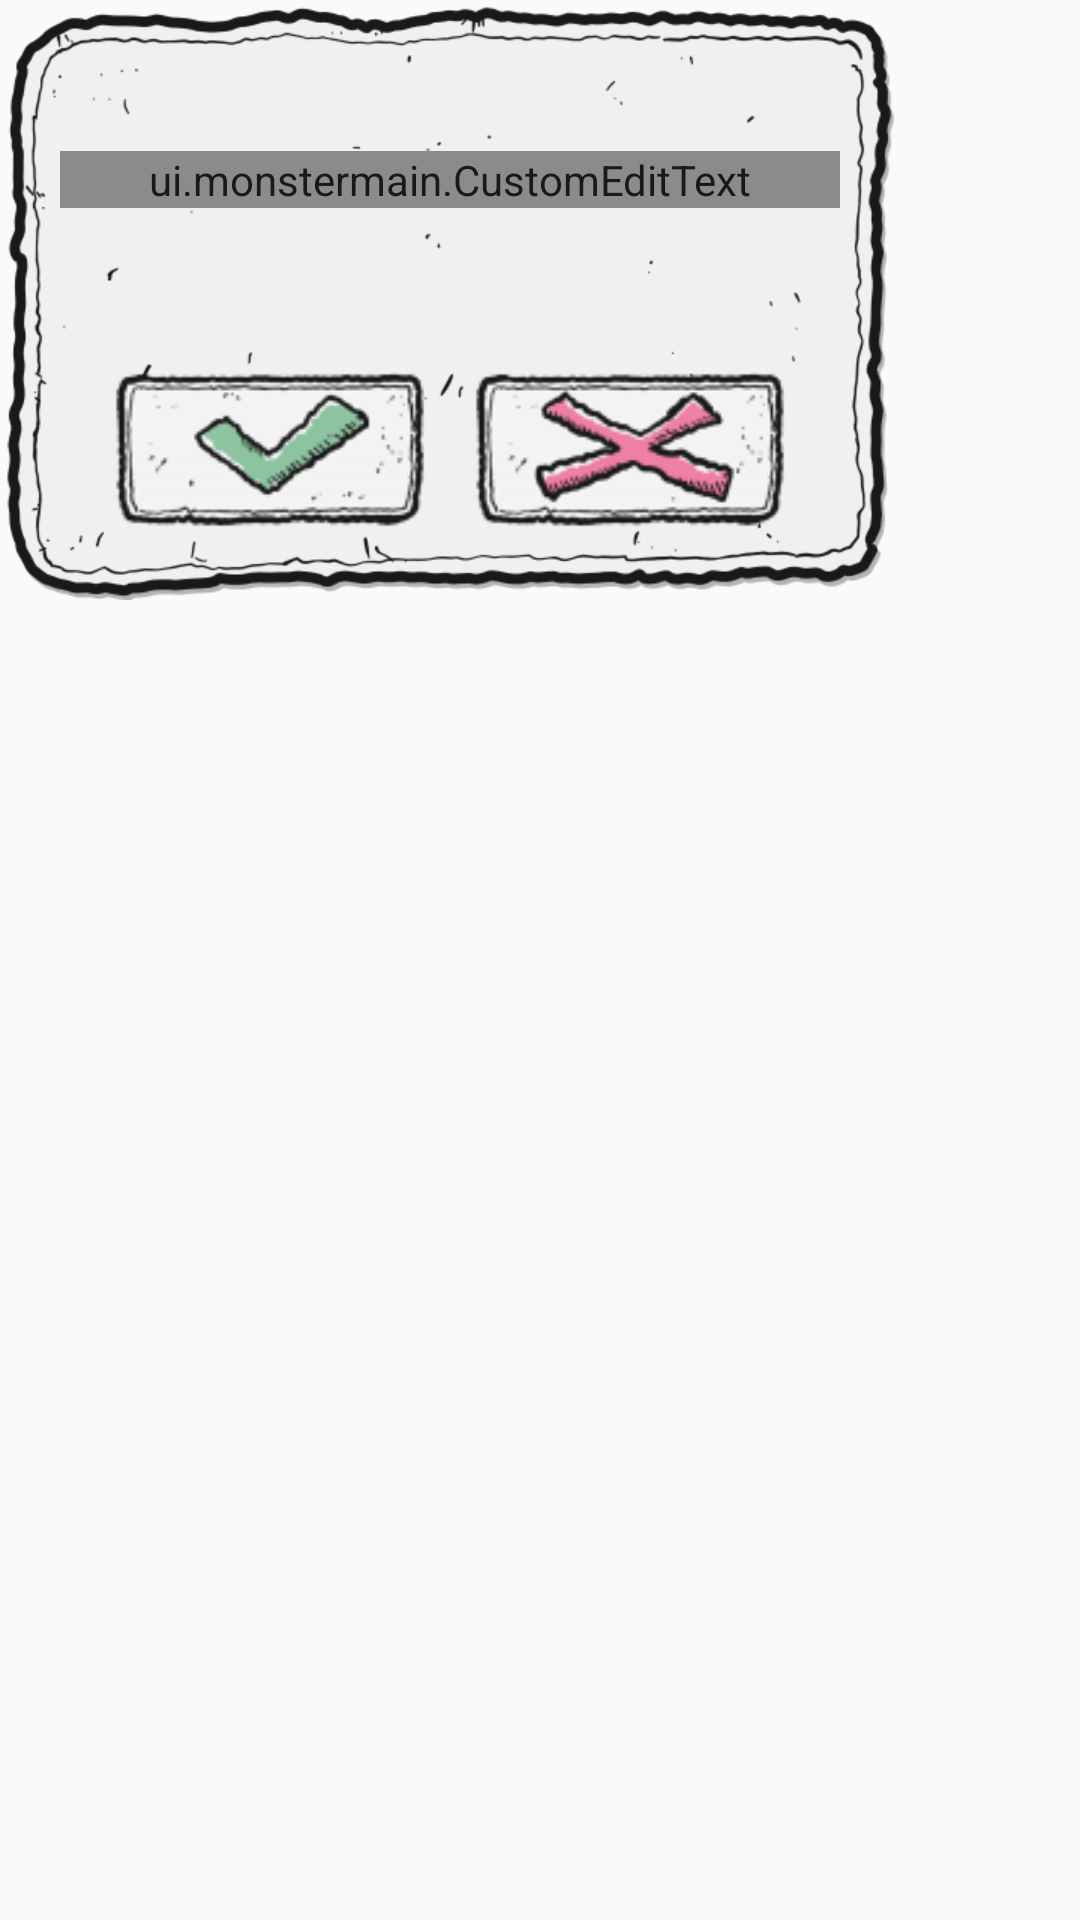

Named icons in this screenshot (1080*1920) and their centers, (x,y):
edit dna negative: (626,449)
edit dna positive: (283,445)
